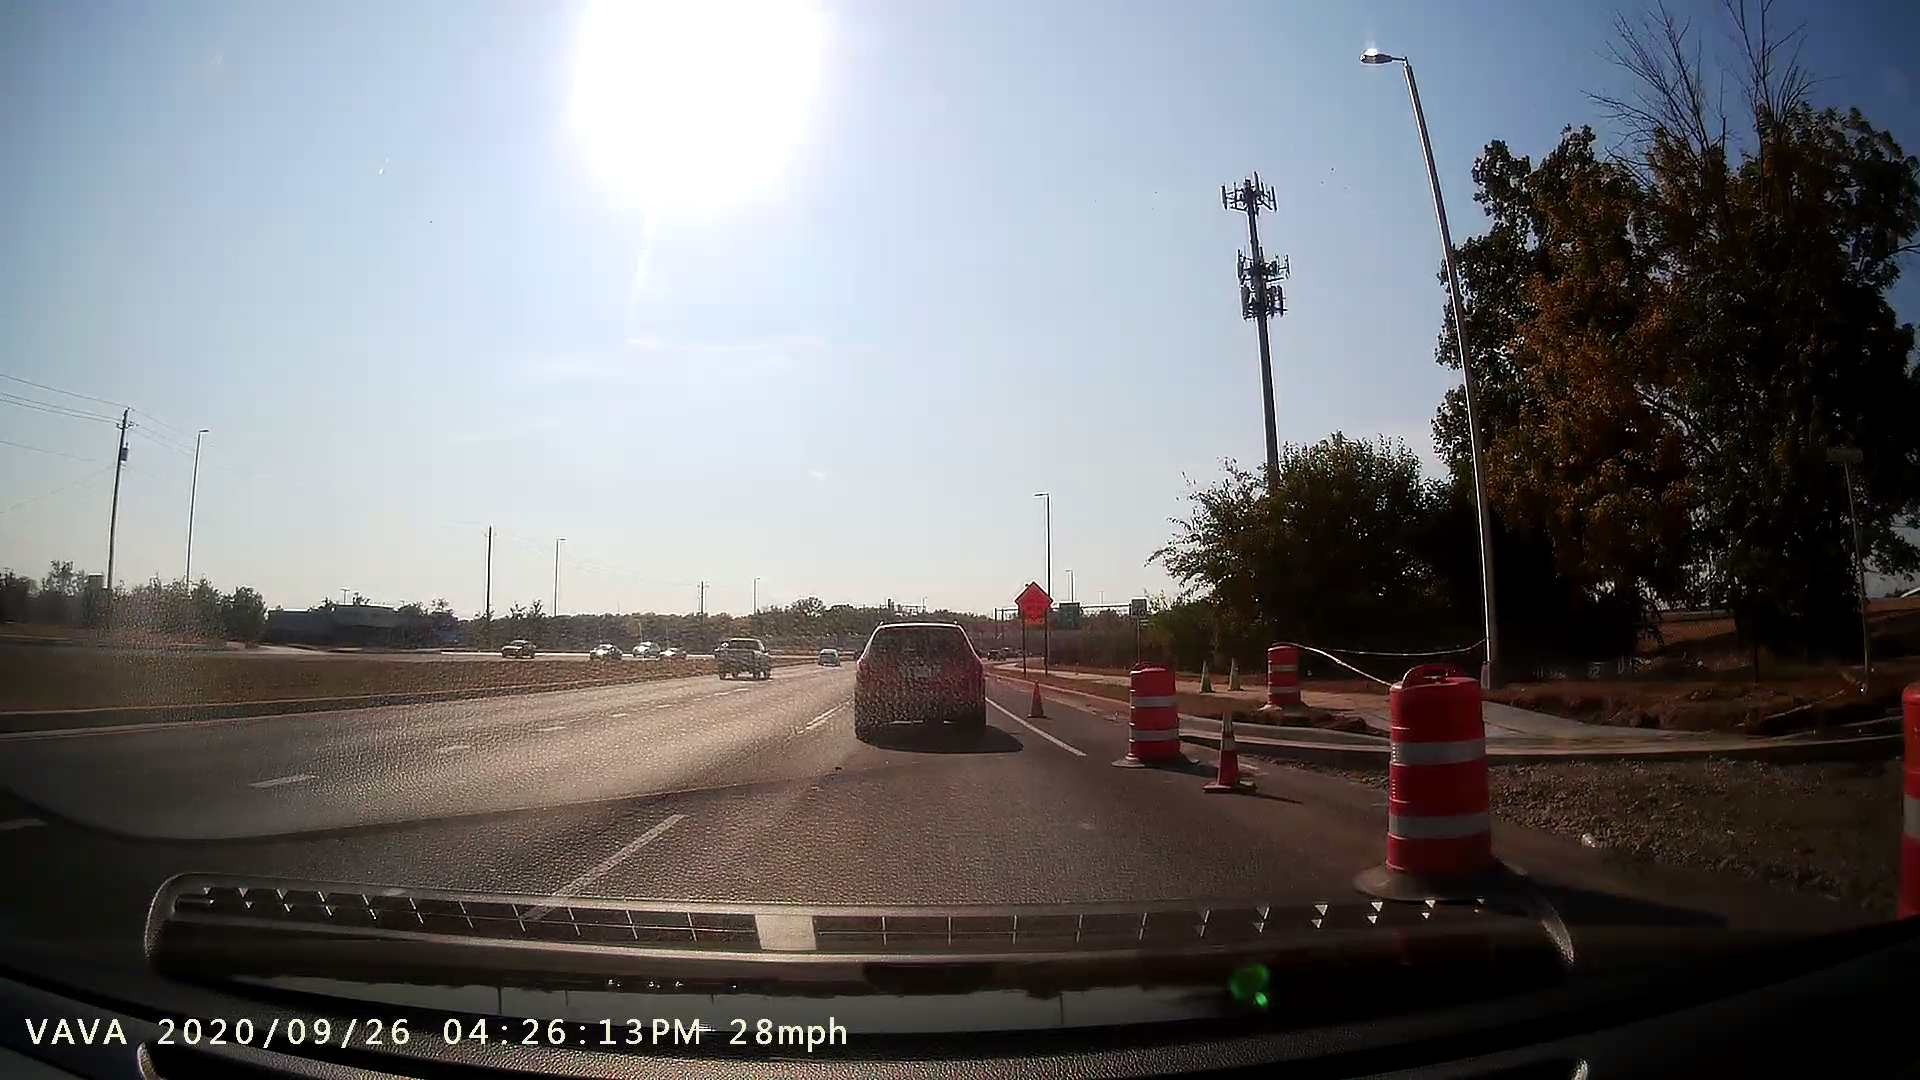const_barrel: (1348, 655, 1534, 899), (1100, 654, 1203, 773), (1253, 629, 1313, 723)
const_cone: (1215, 712, 1261, 799)
